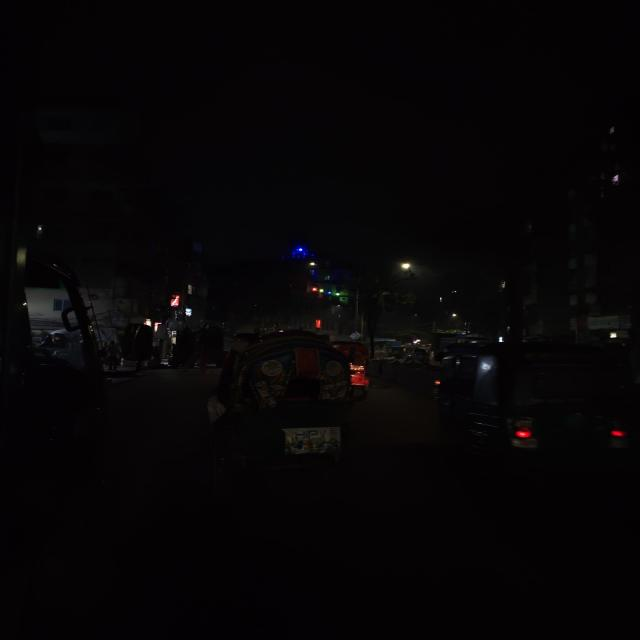cng: (438, 339, 638, 467)
rickshaw: (200, 328, 362, 478), (333, 337, 380, 397)
